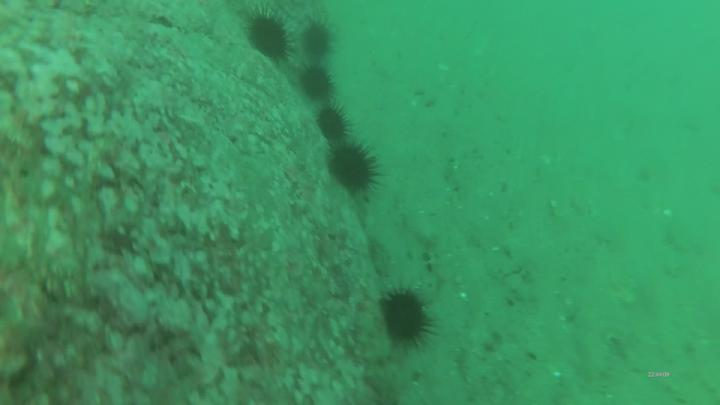echinus: (380, 284, 441, 350), (324, 138, 382, 200), (241, 6, 296, 66), (297, 59, 340, 107), (298, 17, 337, 64), (311, 103, 354, 142)
holothurian: (349, 295, 399, 404)
